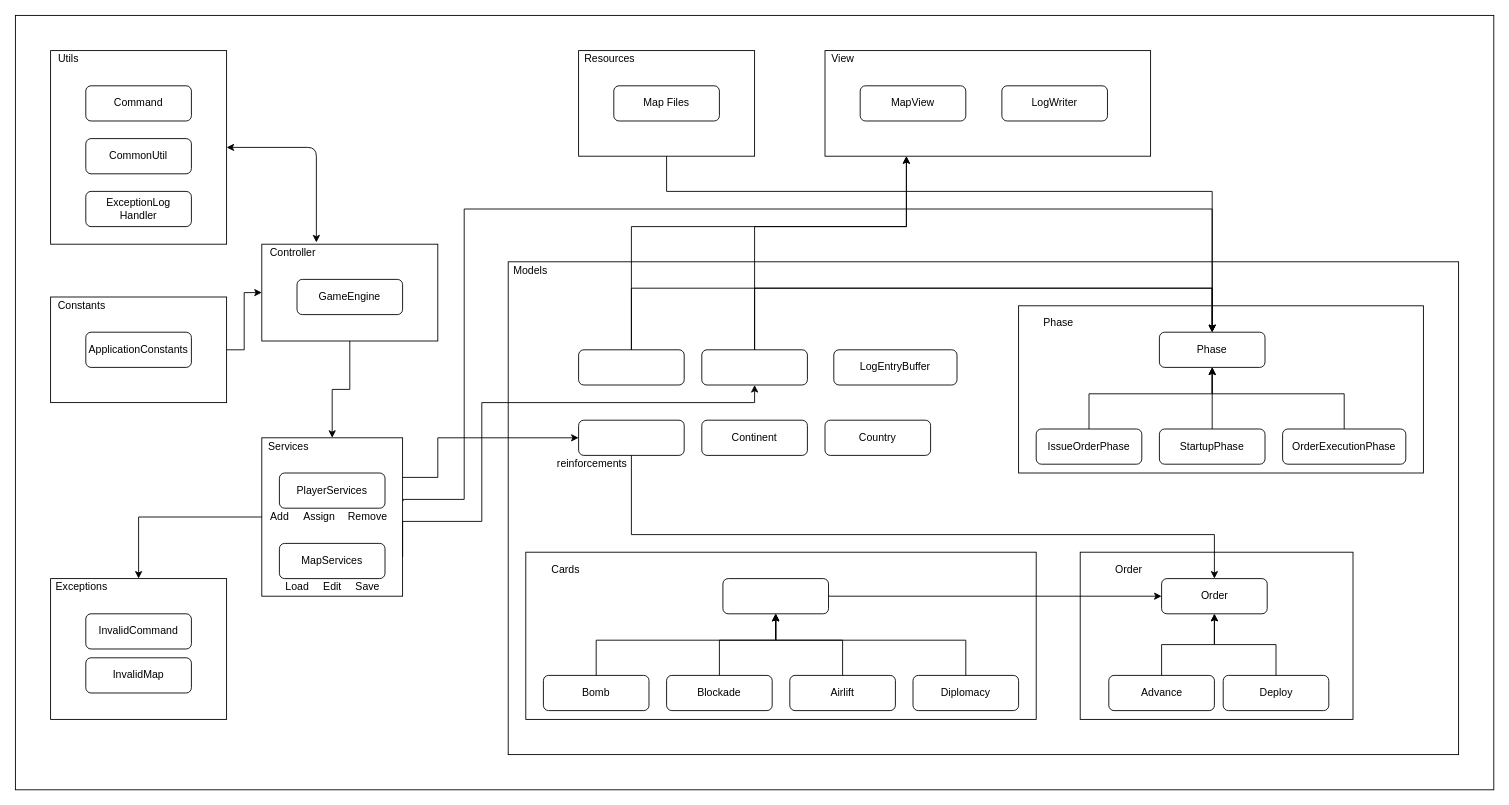
The diagram is 1509 pixels wide and 805 high, and some of its shapes have lost their labels. The centre of each missing label's shape, as x and y in pixels:
"Card" goes at (775,596).
"GameState" goes at (631,367).
"Map" goes at (754,367).
"Player" goes at (631,437).
